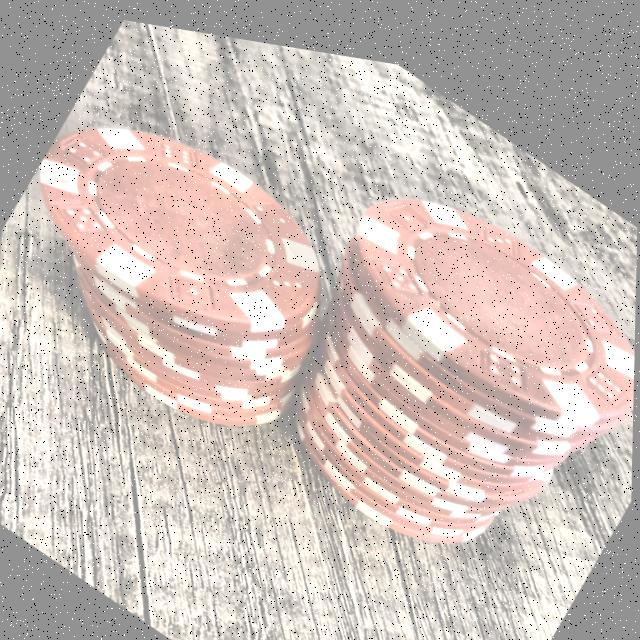Chip: (238, 123, 638, 616), (0, 56, 376, 471)
